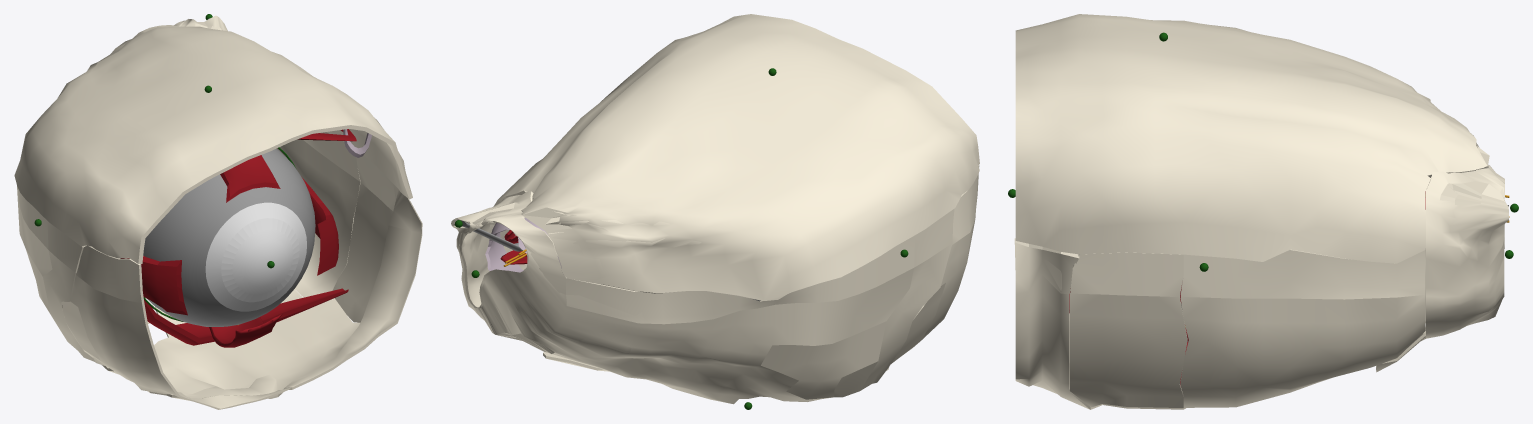
Rendered from FullPins.FBX.
3 renders of one model, left to right at view 1: azimuth 30°, elevation 25°; view 2: azimuth 150°, elevation 25°; view 3: azimuth 270°, elevation 25°, orthographic. The views are drawn at different scales.
Visible parts, largest first — view 1: osFrontale, osMaxilla, bSclera, osZygomaticum, bCornea, osEthmoidale, osLacrimale, osSphenoildale, mObliquusInferior, mRectusLateralis, mRectusSuperior, mRectusMedialis (+2 smaller); view 2: osFrontale, osSphenoildale, osZygomaticum, othAnulusTendineusCommunis; view 3: osFrontale, osEthmoidale, osLacrimale, osSphenoildale, osMaxilla.
Boxes of the visible parts, x1,y1,x2,y2 form: osFrontale: [14, 25, 412, 263]; osMaxilla: [102, 184, 422, 400]; bSclera: [143, 148, 315, 326]; osZygomaticum: [61, 245, 290, 409]; bCornea: [205, 202, 306, 311]; osEthmoidale: [277, 132, 360, 297]; osLacrimale: [332, 155, 395, 322]; osSphenoildale: [17, 15, 227, 361]; mObliquusInferior: [144, 288, 348, 345]; mRectusLateralis: [120, 256, 187, 315]; mRectusSuperior: [220, 155, 280, 202]; mRectusMedialis: [302, 178, 338, 275]; osFrontale: [490, 14, 979, 300]; osSphenoildale: [451, 191, 954, 404]; osZygomaticum: [891, 165, 979, 363]; othAnulusTendineusCommunis: [485, 217, 561, 272]; osFrontale: [1015, 14, 1489, 263]; osEthmoidale: [1180, 249, 1425, 407]; osLacrimale: [1069, 252, 1187, 407]; osSphenoildale: [1423, 165, 1508, 338]; osMaxilla: [1014, 238, 1425, 409].
Bounding box in the file's own units: 1.55 × 1.36 × 1.8.
